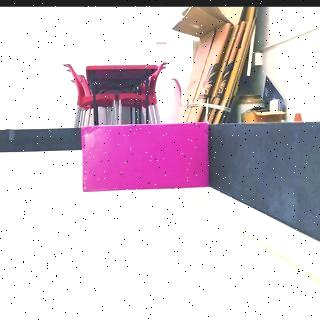xparking: (81, 122, 209, 191)
